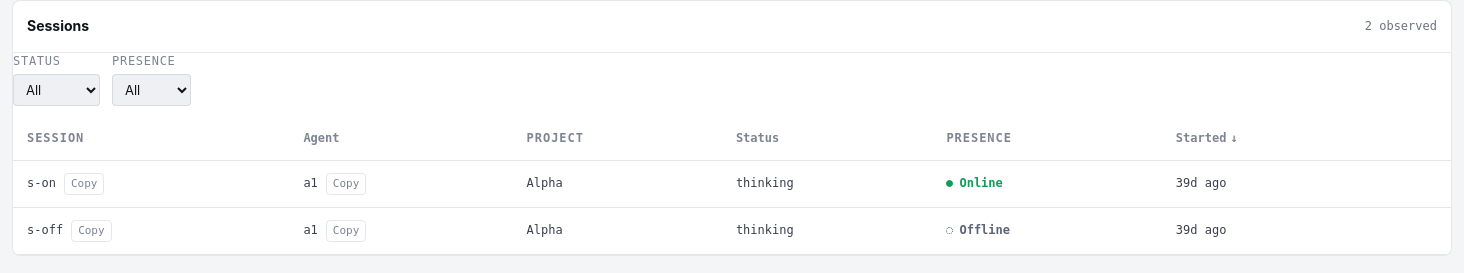
Test case: SessionsView › filters by presence
The image size is (1464, 273).
Select "Offline" in the dropdown labelled "Presence" at x=152, y=90, box [112, 74, 191, 106]
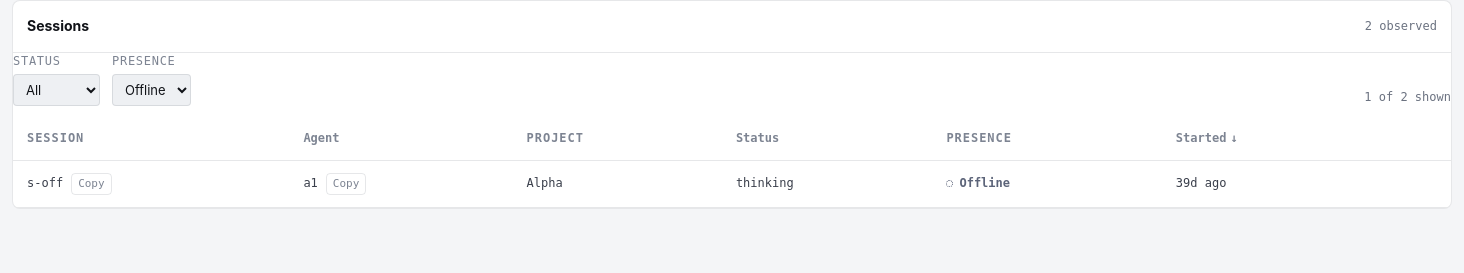
Expected: the text "s-off" is shown, [27, 175, 63, 192]
Now the text "s-on" is gone
